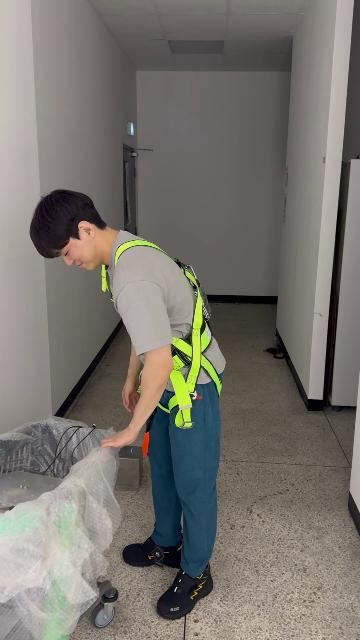helmet_not_worn: (28, 187, 107, 259)
shoe_worn: (157, 563, 213, 620), (122, 533, 182, 567)
vest_worn: (99, 239, 217, 419)
